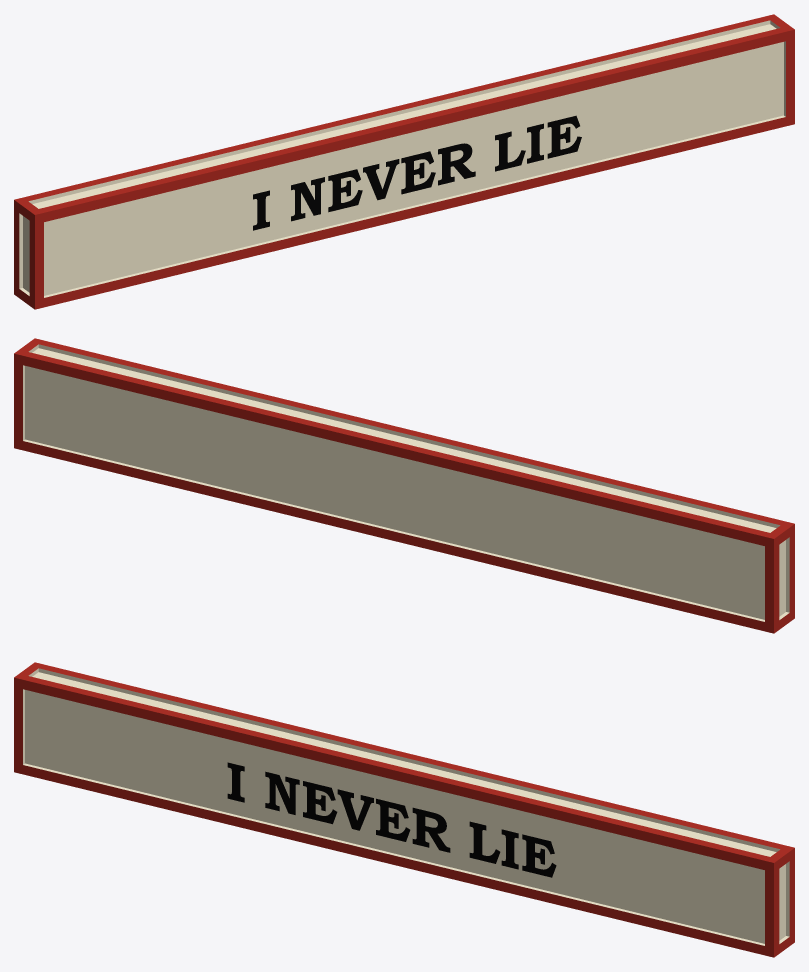
Rendered from iNeverLie.glb.
3 renders of one model, top to bottom at view 1: azimuth 30°, elevation 25°; view 2: azimuth 150°, elevation 25°; view 3: azimuth 330°, elevation 25°, orthographic.
Parts seen in each view (by area): view 1: ButtonBase, ButtonText; view 2: ButtonBase; view 3: ButtonBase, ButtonText.
Boxes of the visible parts, x1,y1,x2,y2 form: ButtonBase: (14, 14, 794, 309); ButtonText: (253, 115, 581, 230); ButtonBase: (14, 338, 794, 633); ButtonBase: (14, 662, 794, 957); ButtonText: (227, 762, 556, 877).
Bounding box in the file's own units: 10.5 × 1.25 × 0.5538.
